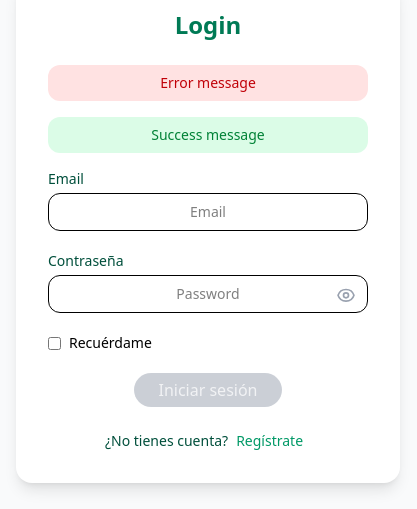
it: LoginPage › Password visibility toggle › should toggle password visibility when clicking the eye button
Click the button named "mostrar contraseña".
click(346, 295)  # box x1=336 y1=285 x2=356 y2=305
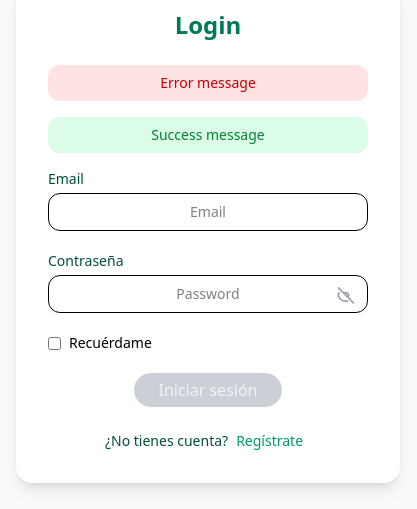
Now the button named "ocultar contraseña" is shown, box x1=336 y1=285 x2=356 y2=305
